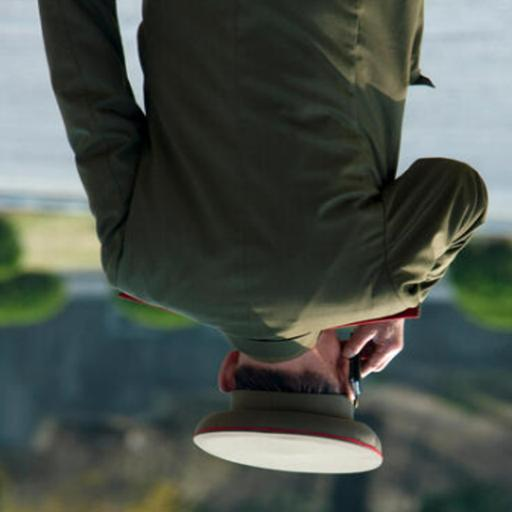north army: (33, 3, 473, 485)
